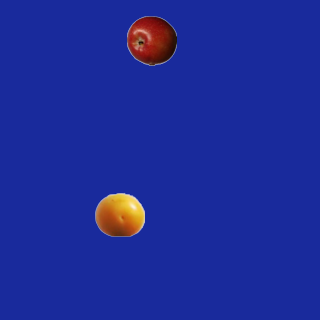Apple Braeburn: (126, 15, 176, 65)
Cherry Wax Yellow: (94, 189, 144, 239)
